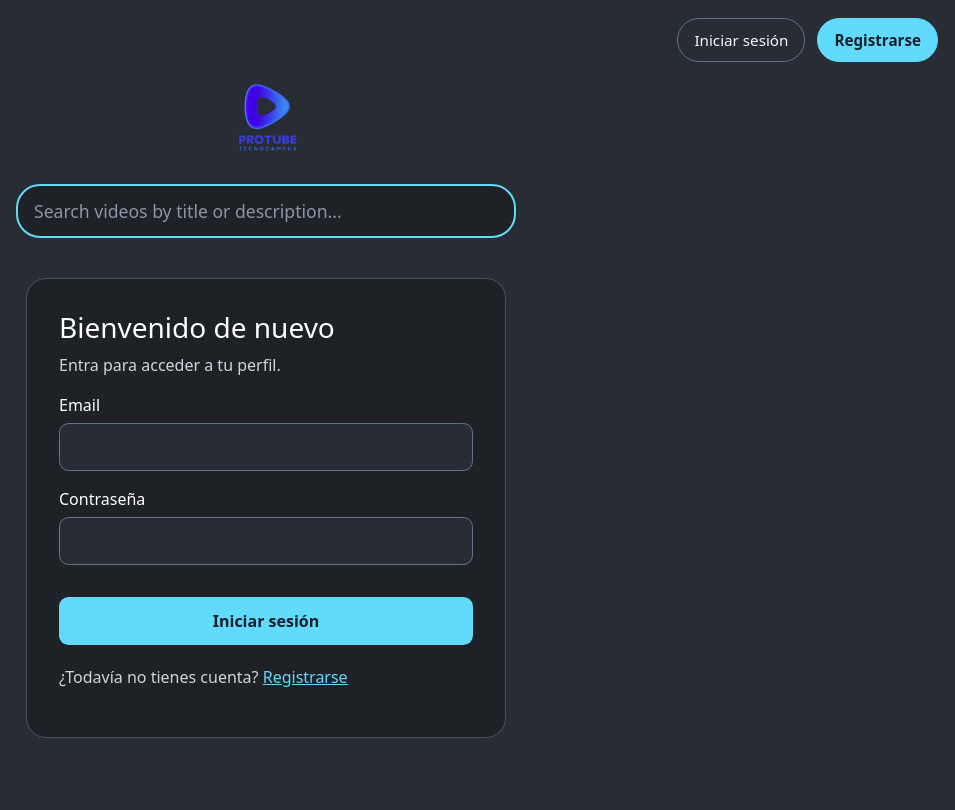
Test: Authentication navigation and pages › shows a useful fallback for an unexpected form error and permits switching forms
Check: the 1st link "Registrarse" is shown, box [817,18,938,62]
Type "user@example.test" into the field labelled "Email". click: (266, 447)
box: [59,423,473,471]
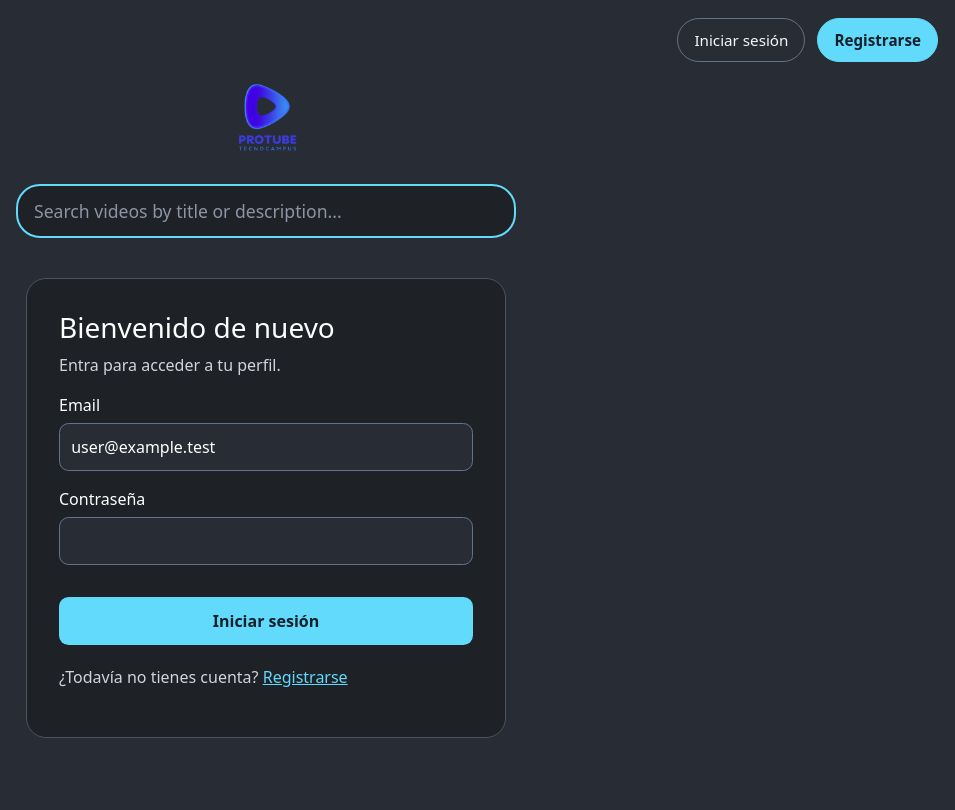
Type "password123" into the password field labelled "Contraseña". click: (266, 541)
box: [59,516,473,565]
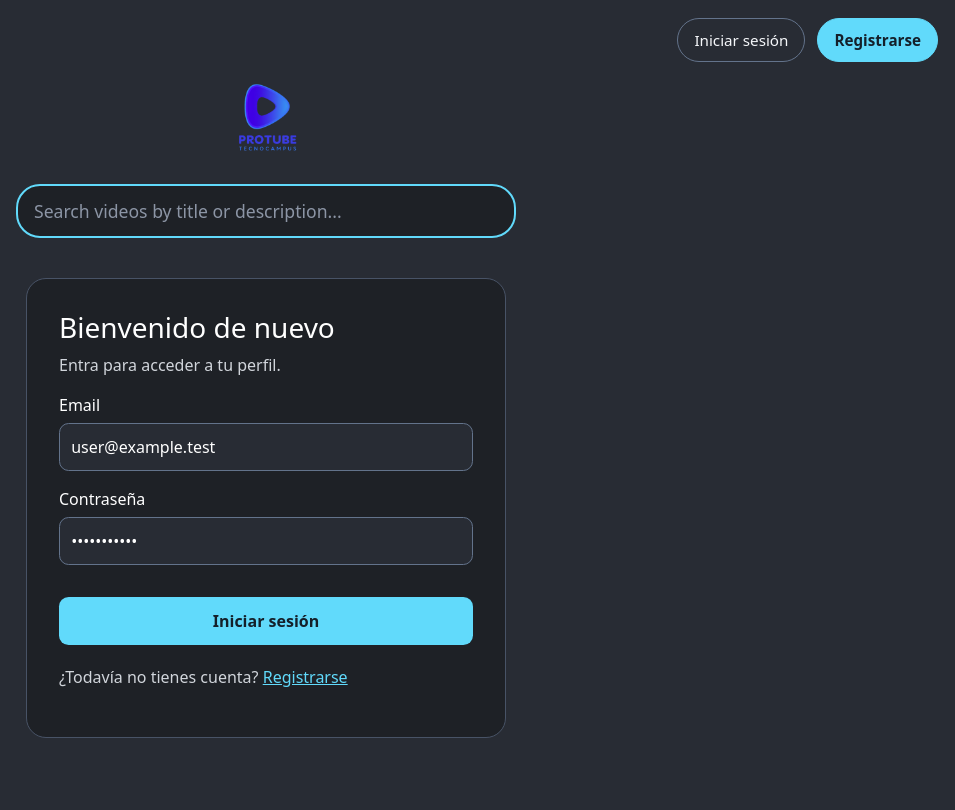
Click the button "Iniciar sesión". click: click(266, 621)
box: [59,597,473,645]
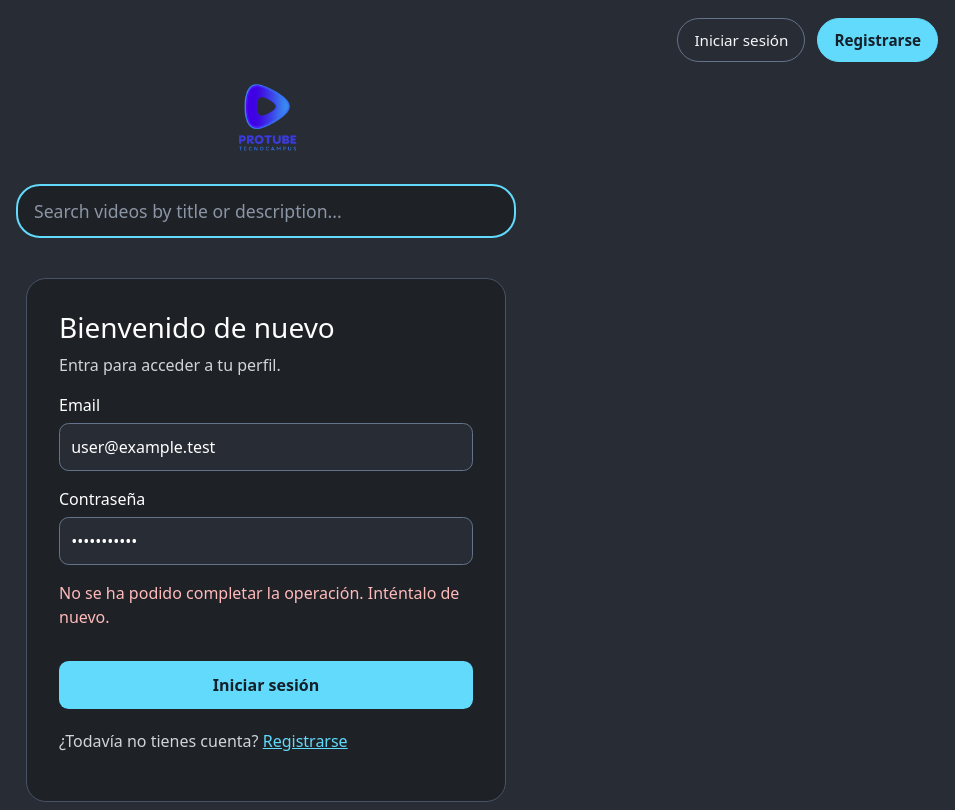
Check: the message shows "No se ha podido completar la operación", box [59,582,459,628]
Click the link "Registrarse" next to "¿Todavía no tienes cuenta?". click: click(305, 741)
box: [263,730,348,752]
(page scrolled)
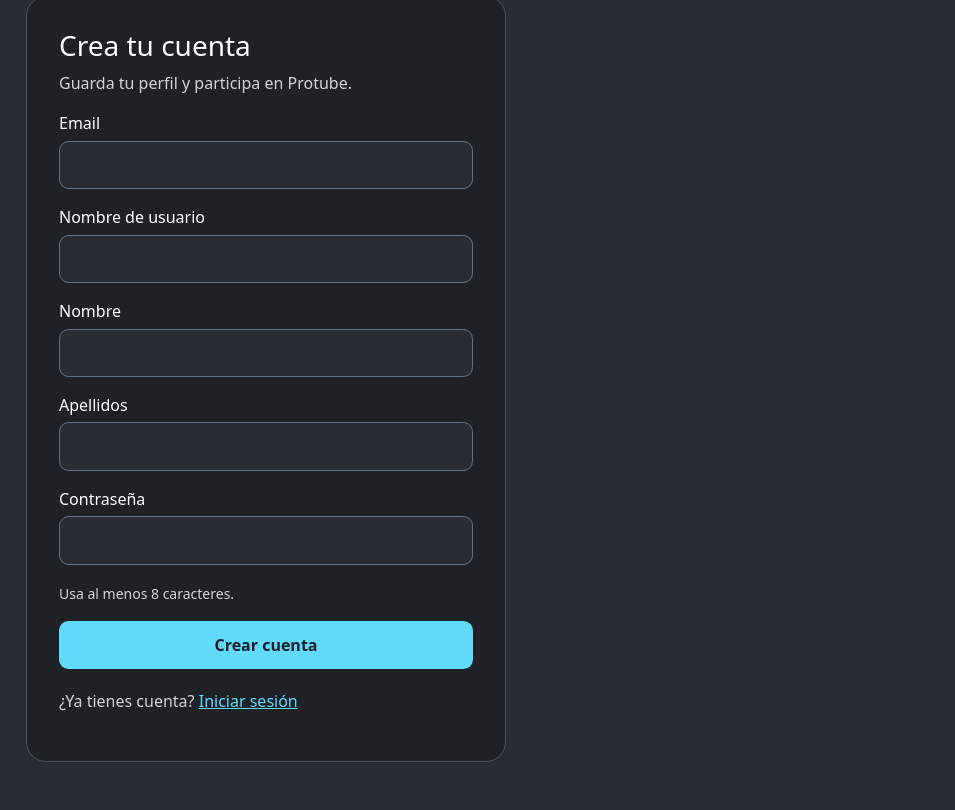
Check: the heading "Crea tu cuenta" is shown, box [59,26,251,64]
Check: the password field labelled "Contraseña" is empty, box [59,516,473,565]
